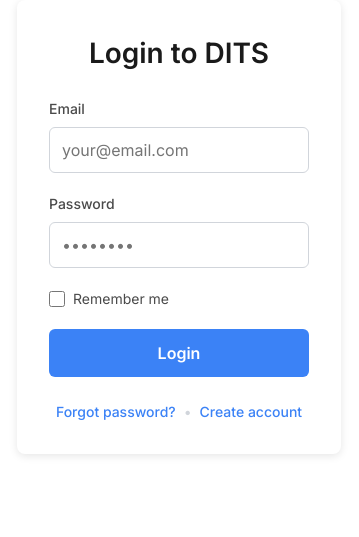
Scenario: LoginForm - Validation Logic › should display error when password is missing
In the field labelled "Email": (179, 150) top-left (49, 127), bottom-right (309, 173), type "test@example.com"
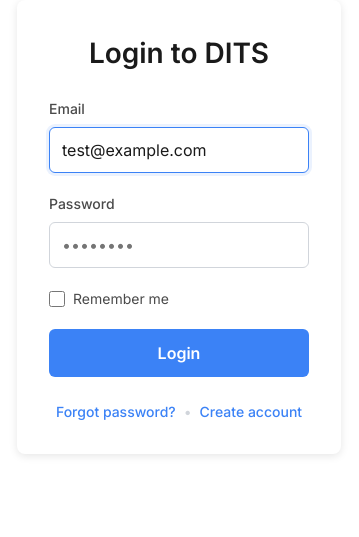
// Use fireEvent to bypass HTML5 validation
Submit the form "Login"
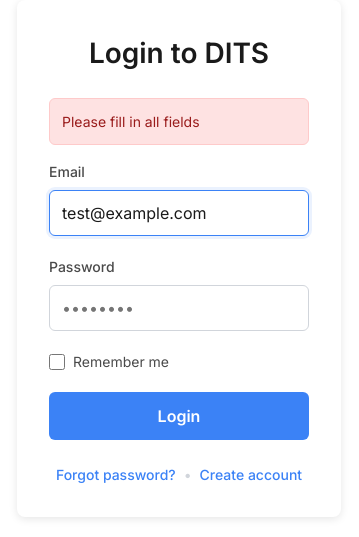
Now the message reads "Please fill in all fields", box top-left (62, 113), bottom-right (200, 130)
